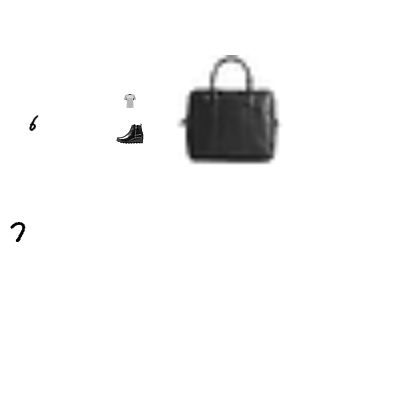6: (22, 113, 44, 135)
7: (5, 216, 33, 244)
Ankle_boot: (116, 119, 144, 147)
Bag: (174, 55, 286, 167)
Sneaker: (213, 70, 227, 84)
T-shirt/top: (123, 94, 137, 108)
